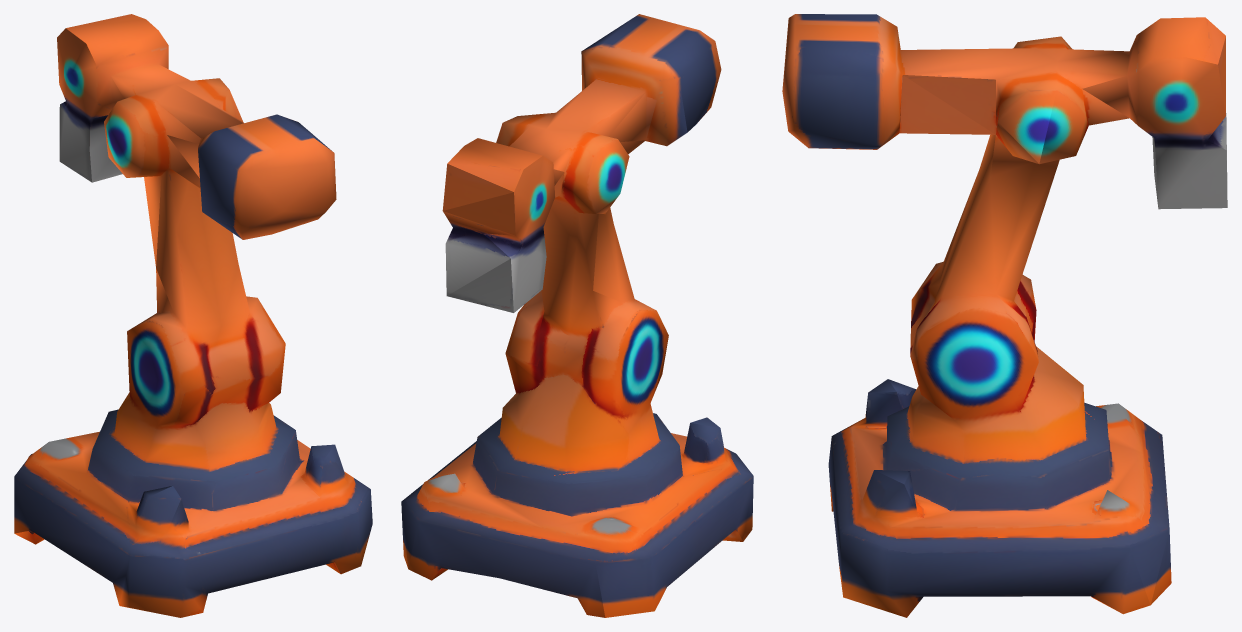
The model's file is neon-robot-arm.glb.
The picture shows the model from 3 angles, left to right: view 1: azimuth 30°, elevation 25°; view 2: azimuth 150°, elevation 25°; view 3: azimuth 270°, elevation 25°; orthographic projection. The views are drawn at different scales.
Parts seen in each view (by area): view 1: geometry_0.001; view 2: geometry_0.001; view 3: geometry_0.001.
Boxes of the visible parts, x1,y1,x2,y2 form: geometry_0.001: (14, 14, 372, 617); geometry_0.001: (401, 14, 753, 617); geometry_0.001: (782, 14, 1227, 617).
Bounding box in the file's own units: 0.5791 × 1 × 0.7756.
1 material, 1 textured.
